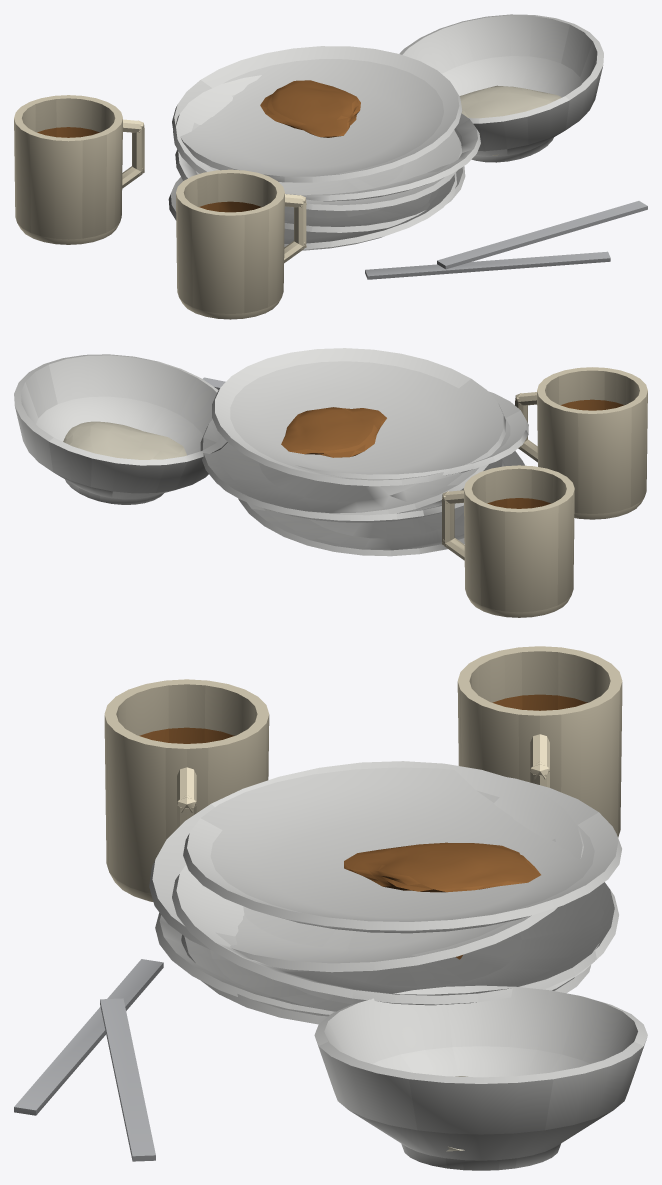
Rendered from dish_pile.glb.
The picture shows the model from 3 angles, top to bottom: view 1: azimuth 30°, elevation 25°; view 2: azimuth 150°, elevation 25°; view 3: azimuth 270°, elevation 25°; orthographic projection. The views are drawn at different scales.
Parts seen in each view (by area): view 1: body; view 2: body; view 3: body.
Boxes of the visible parts, x1,y1,x2,y2 form: body: (14, 14, 647, 319); body: (14, 348, 647, 617); body: (14, 646, 647, 1170).
Size of what is drawn, in the model's own units: 0.4878 by 0.0956 by 0.3231.
